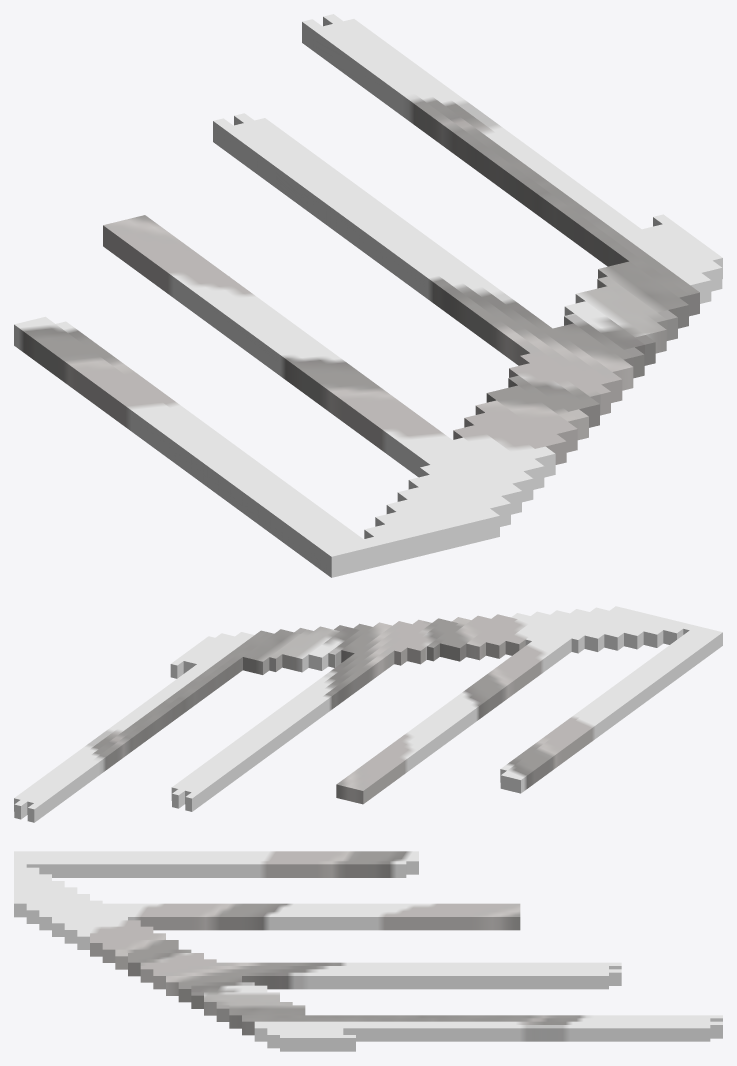
Rendered from rail.obj.
The picture shows the model from 3 angles, top to bottom: view 1: azimuth 30°, elevation 25°; view 2: azimuth 150°, elevation 25°; view 3: azimuth 270°, elevation 25°; orthographic projection. The views are drawn at different scales.
Size of the model in its own units: 0.8906 by 0.03 by 1.43.
